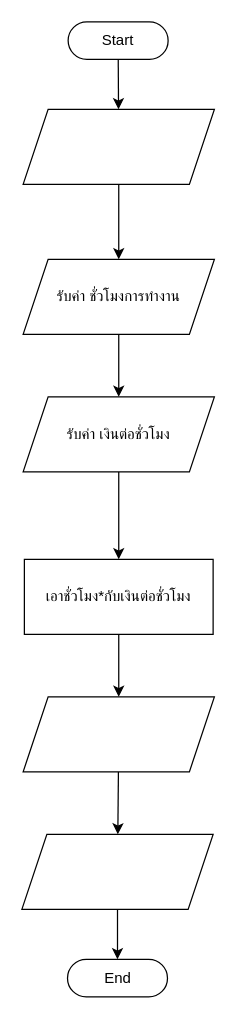
Image size: 236x1019. Some labels were removed from this diagram. The shapes that lost their labels are listed below. From the top down, each one's centre as x and y in pixels, then its label:
At (118,146): "รับค่า ID Employee".
At (118,734): "เเสดงค่า ID Employee".
At (117,871): "เเสดงค่า เงินรายวันออกมา".
